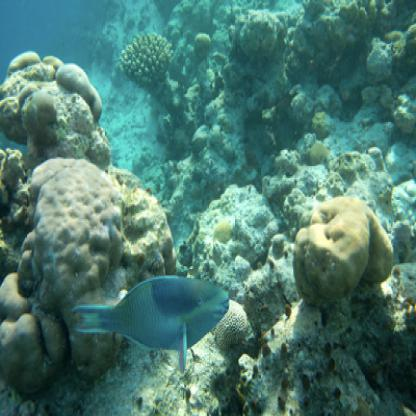parrot: (70, 273, 231, 376)
